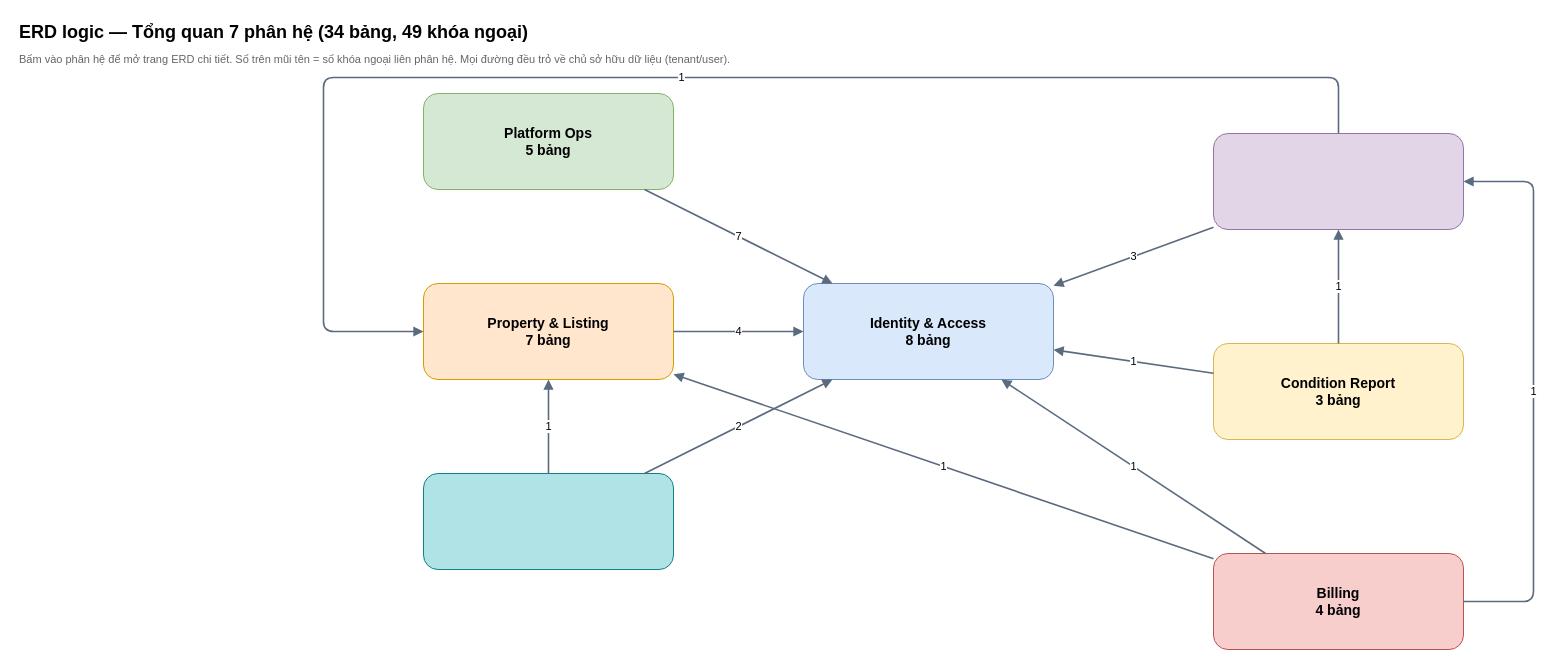
This 1559x667 diagram has some shape labels left out. The shapes that lost their labels are listed below. From the top down, each one's centre as x and y in pixels, then its label:
point (1338, 181): Lease & Occupants 5 bảng
point (548, 521): Ticket 2 bảng
